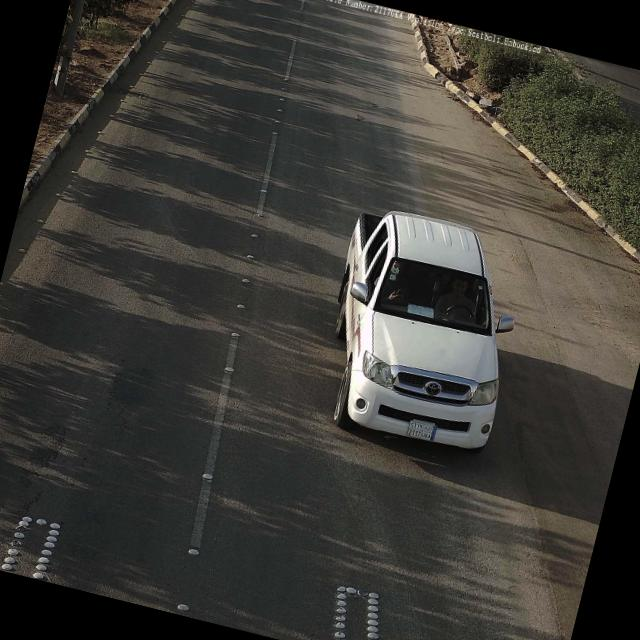person_without_seatbelt: (433, 271, 482, 321)
